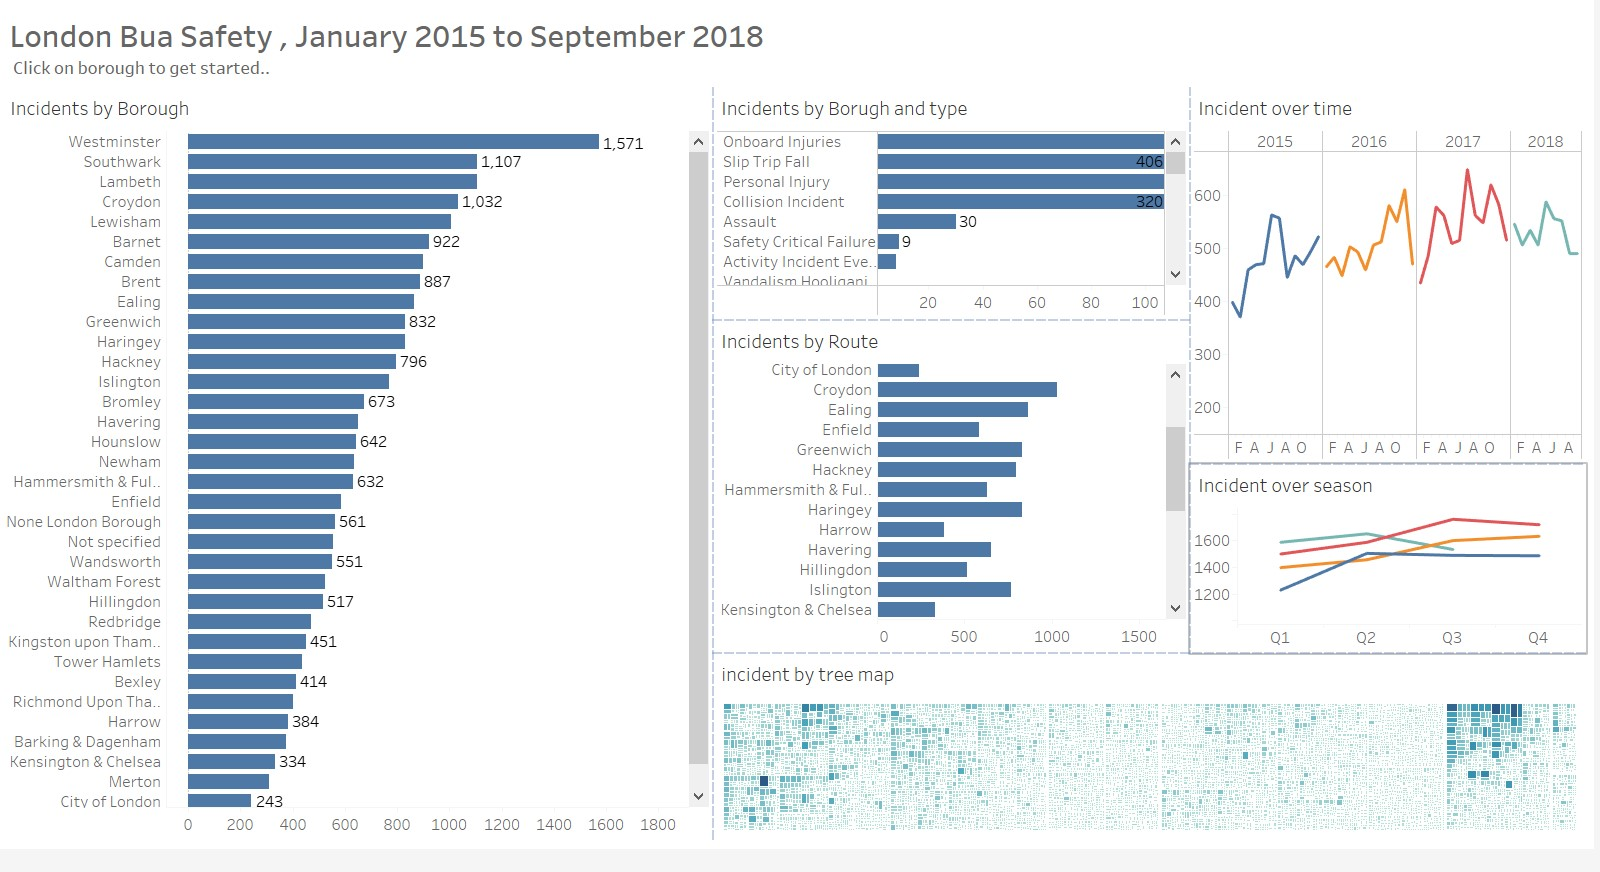

The page's visual inventory and layout, read from the dashboard file:
{"tool":"tableau","page":{"name":"Dashboard 1","canvas":[1366,768],"ordinal":0},"visuals":[{"type":"text","box":[8,8,1350,70]},{"type":"worksheet","title":"Incidents by Borough","mark":"Bar","rows":["Borough"],"cols":["Sheet1_7B2987A55E0540B09DAD89546DE00014"],"box":[8,78,658,682]},{"type":"worksheet","title":"Incidents by Borough and Type","mark":"Bar","rows":["Borough","Incident Event Type"],"cols":["Sheet1_7B2987A55E0540B09DAD89546DE00014"],"box":[666,78,354.5,277]},{"type":"worksheet","title":"Incidents Over Time","mark":"Automatic","rows":["Sheet1_7B2987A55E0540B09DAD89546DE00014"],"cols":["Date Of Incident","Date Of Incident"],"box":[1020.5,78,337.5,277]},{"type":"worksheet","title":"Incidents by Route","mark":"Bar","rows":["Route"],"cols":["Sheet1_7B2987A55E0540B09DAD89546DE00014"],"box":[666,355,354.5,234.5]},{"type":"worksheet","title":"Incidents By Season","mark":"Automatic","rows":["Sheet1_7B2987A55E0540B09DAD89546DE00014"],"cols":["Date Of Incident"],"box":[1020.5,355,337.5,234.5]},{"type":"worksheet","title":"Incident Treemap","mark":"Automatic","box":[666,589.5,692,170.5]}]}

Visuals, with their boxes on the page's 1366x768 design canvas (x1, y1, x2, y2). These are canvas units, not pixel positions in the 1600x872 screenshot, which may show the page scaled, cropped or inside an application window:
text: Rect(8, 8, 1358, 78)
"Incidents by Borough" worksheet (Bar marks): Rect(8, 78, 666, 760)
"Incidents by Borough and Type" worksheet (Bar marks): Rect(666, 78, 1020, 355)
"Incidents Over Time" worksheet: Rect(1020, 78, 1358, 355)
"Incidents by Route" worksheet (Bar marks): Rect(666, 355, 1020, 590)
"Incidents By Season" worksheet: Rect(1020, 355, 1358, 590)
"Incident Treemap" worksheet: Rect(666, 590, 1358, 760)
